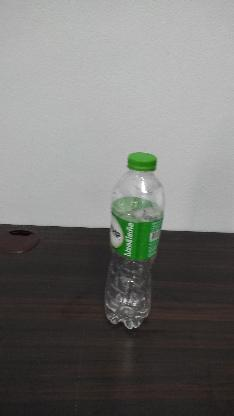Plastic Bottle: (94, 146, 168, 338)
